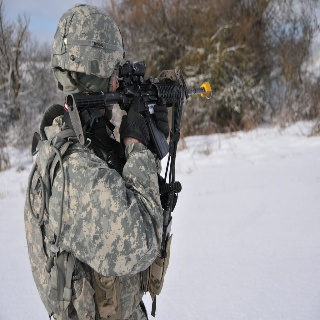rifle: (63, 58, 214, 163)
